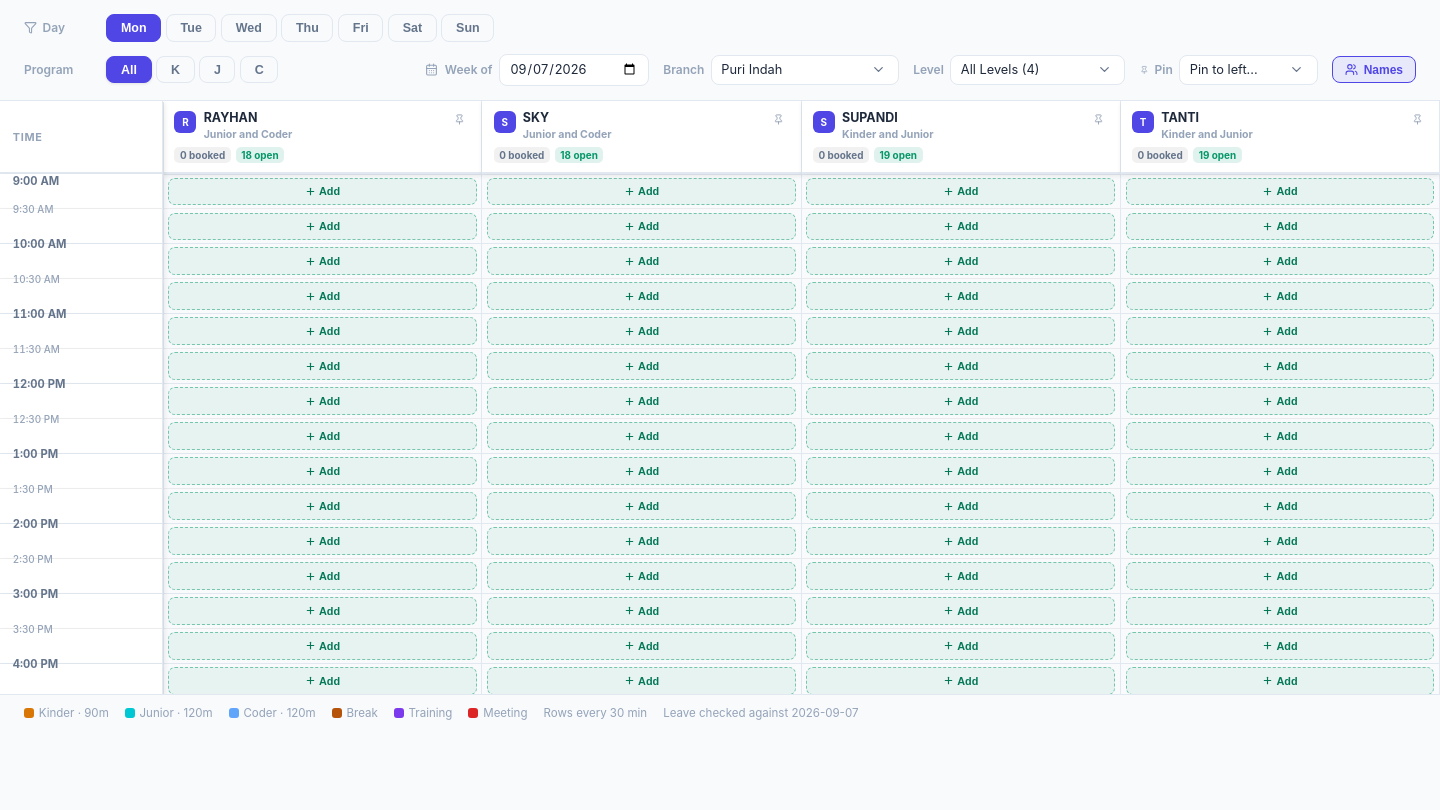
ScheduleGrid Pin Instructor to the Left › pins an instructor to the left when clicking the Pin button in the column header
This screenshot has width=1440, height=810.
Click the button named "Pin Supandi to left" at (1098, 120), box [1088,111,1109,128]
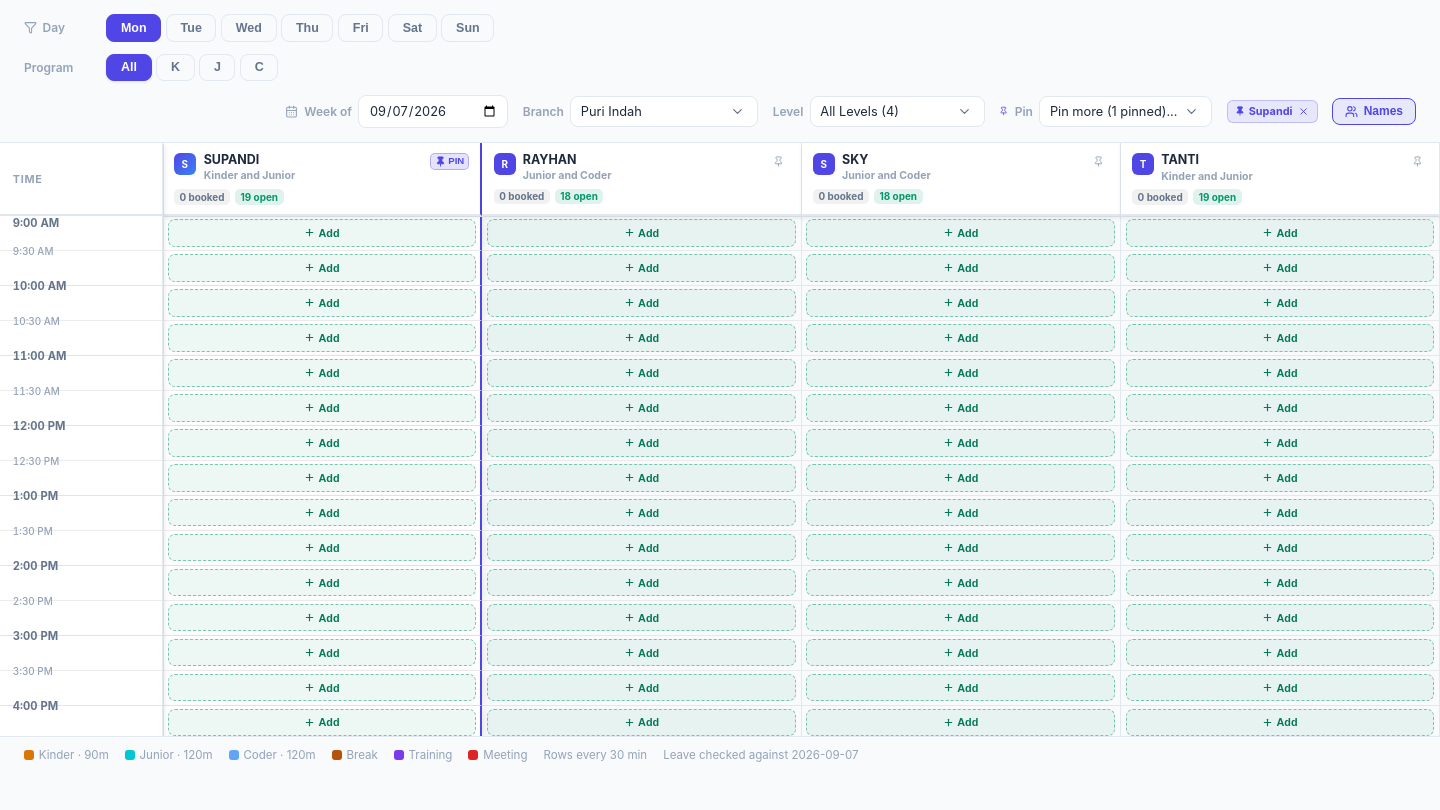
Expected: the column heading "TIME" is shown, [0,143,163,216]
Now the button with aria-label "Unpin Supandi from left" is shown, box [430,153,469,170]
